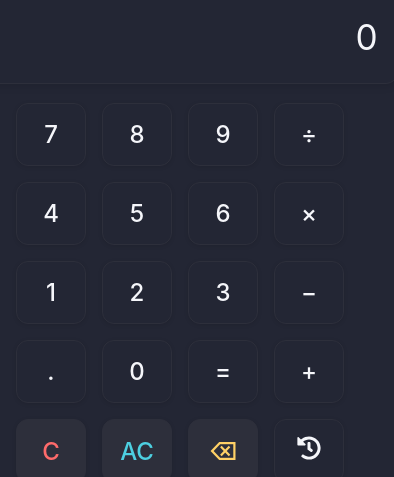
Calculator › performs multiplication
Click the button "7" at (51, 135), box [16,103,86,166]
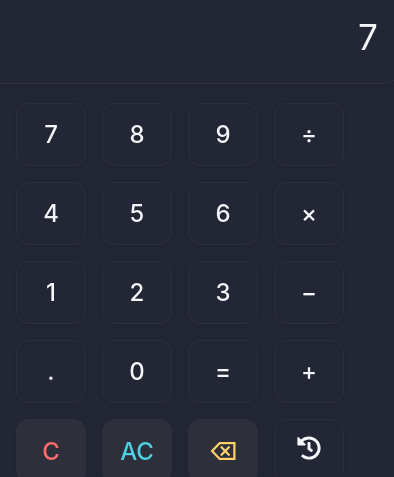
Click the button "×" at (309, 214), box [274,182,344,245]
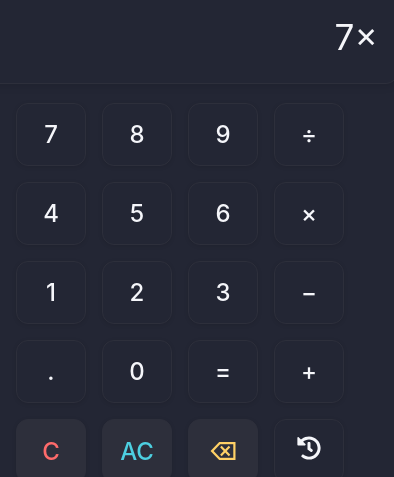
Click the button "6" at (223, 214), box [188,182,258,245]
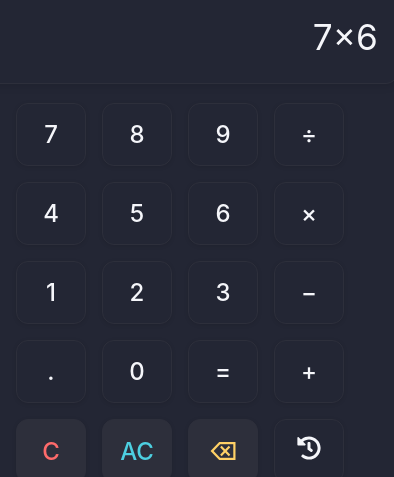
Click the button "=" at (223, 372), box [188,340,258,403]
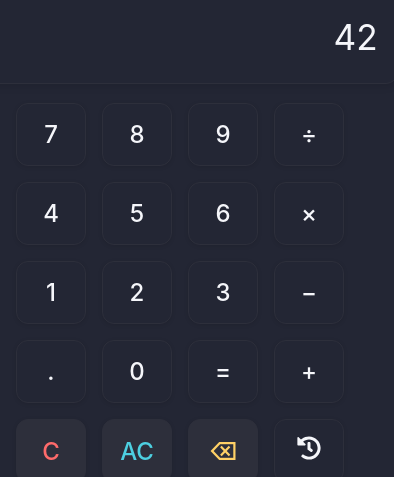
Now the text named "display" reads "42", box [334,16,378,58]
